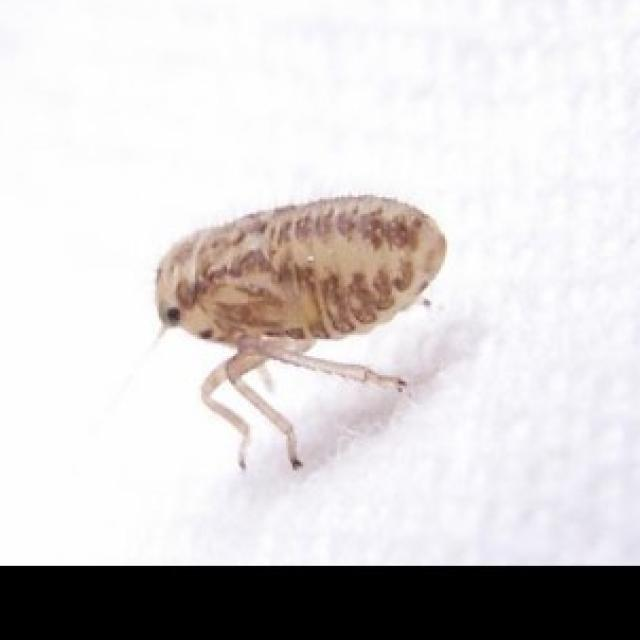brown plant hopper: (157, 195, 447, 466)
